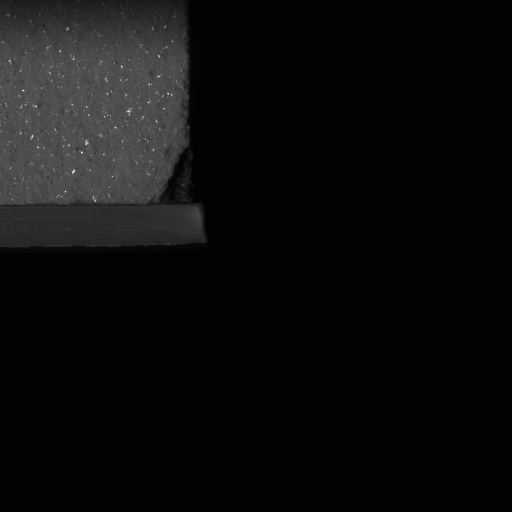bengque: (154, 148, 203, 210)
